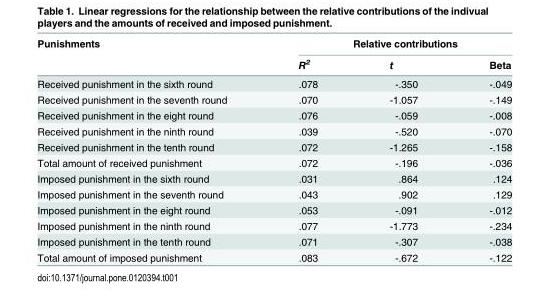table: (36, 36, 511, 262)
table column: (36, 36, 261, 262), (352, 36, 452, 262), (261, 36, 352, 262), (452, 36, 511, 262)
table column header: (36, 36, 511, 74)
table row: (36, 52, 511, 74), (36, 74, 511, 91), (36, 36, 511, 52), (36, 91, 511, 107), (36, 122, 511, 138), (36, 138, 511, 154), (36, 154, 511, 170), (36, 170, 511, 186), (36, 201, 511, 217), (36, 217, 511, 233), (36, 233, 511, 249), (36, 107, 511, 122), (36, 186, 511, 201), (36, 249, 511, 262)
table spanning cell: (36, 36, 261, 74), (261, 36, 511, 52)
